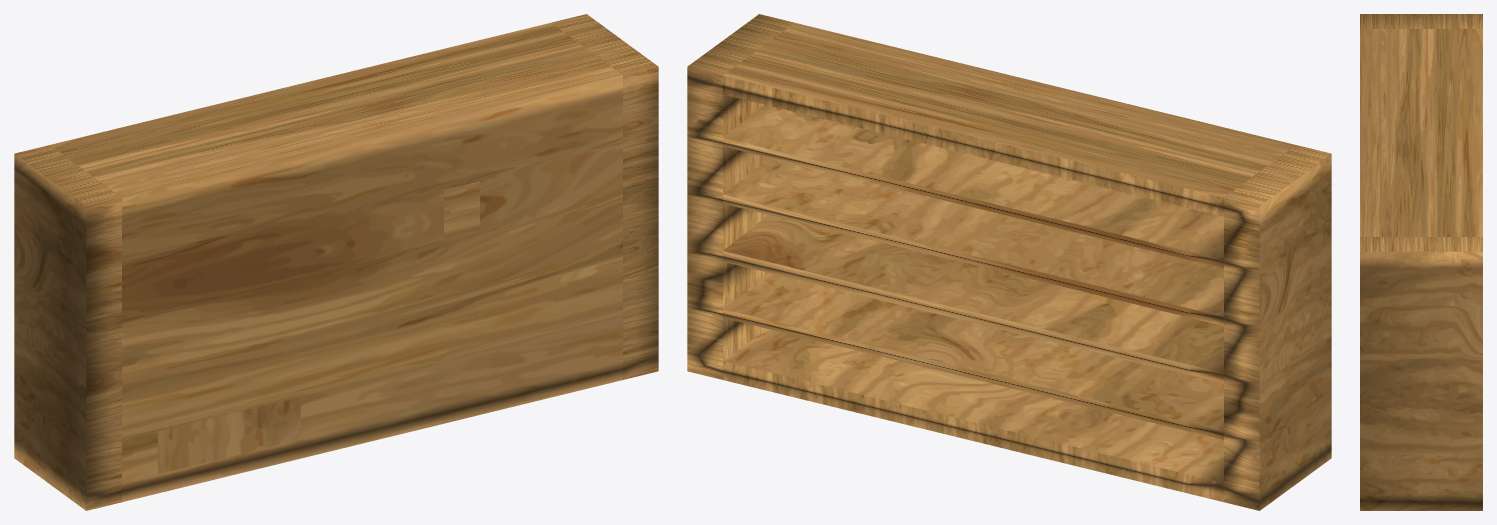
Rendered from Obj_vid_07_Estanteria_buida_low_poly.fbx.
The picture shows the model from 3 angles, left to right: view 1: azimuth 30°, elevation 25°; view 2: azimuth 150°, elevation 25°; view 3: azimuth 270°, elevation 25°; orthographic projection. The views are drawn at different scales.
Visible parts, largest first — view 1: Obj_vid_07_Estanteria_buida_low_poly; view 2: Obj_vid_07_Estanteria_buida_low_poly; view 3: Obj_vid_07_Estanteria_buida_low_poly.
Boxes of the visible parts, x1,y1,x2,y2 form: Obj_vid_07_Estanteria_buida_low_poly: (14, 14, 658, 510); Obj_vid_07_Estanteria_buida_low_poly: (687, 14, 1331, 510); Obj_vid_07_Estanteria_buida_low_poly: (1360, 14, 1482, 510).
Size of the model in its own units: 3.17 by 1.61 by 0.6918.
